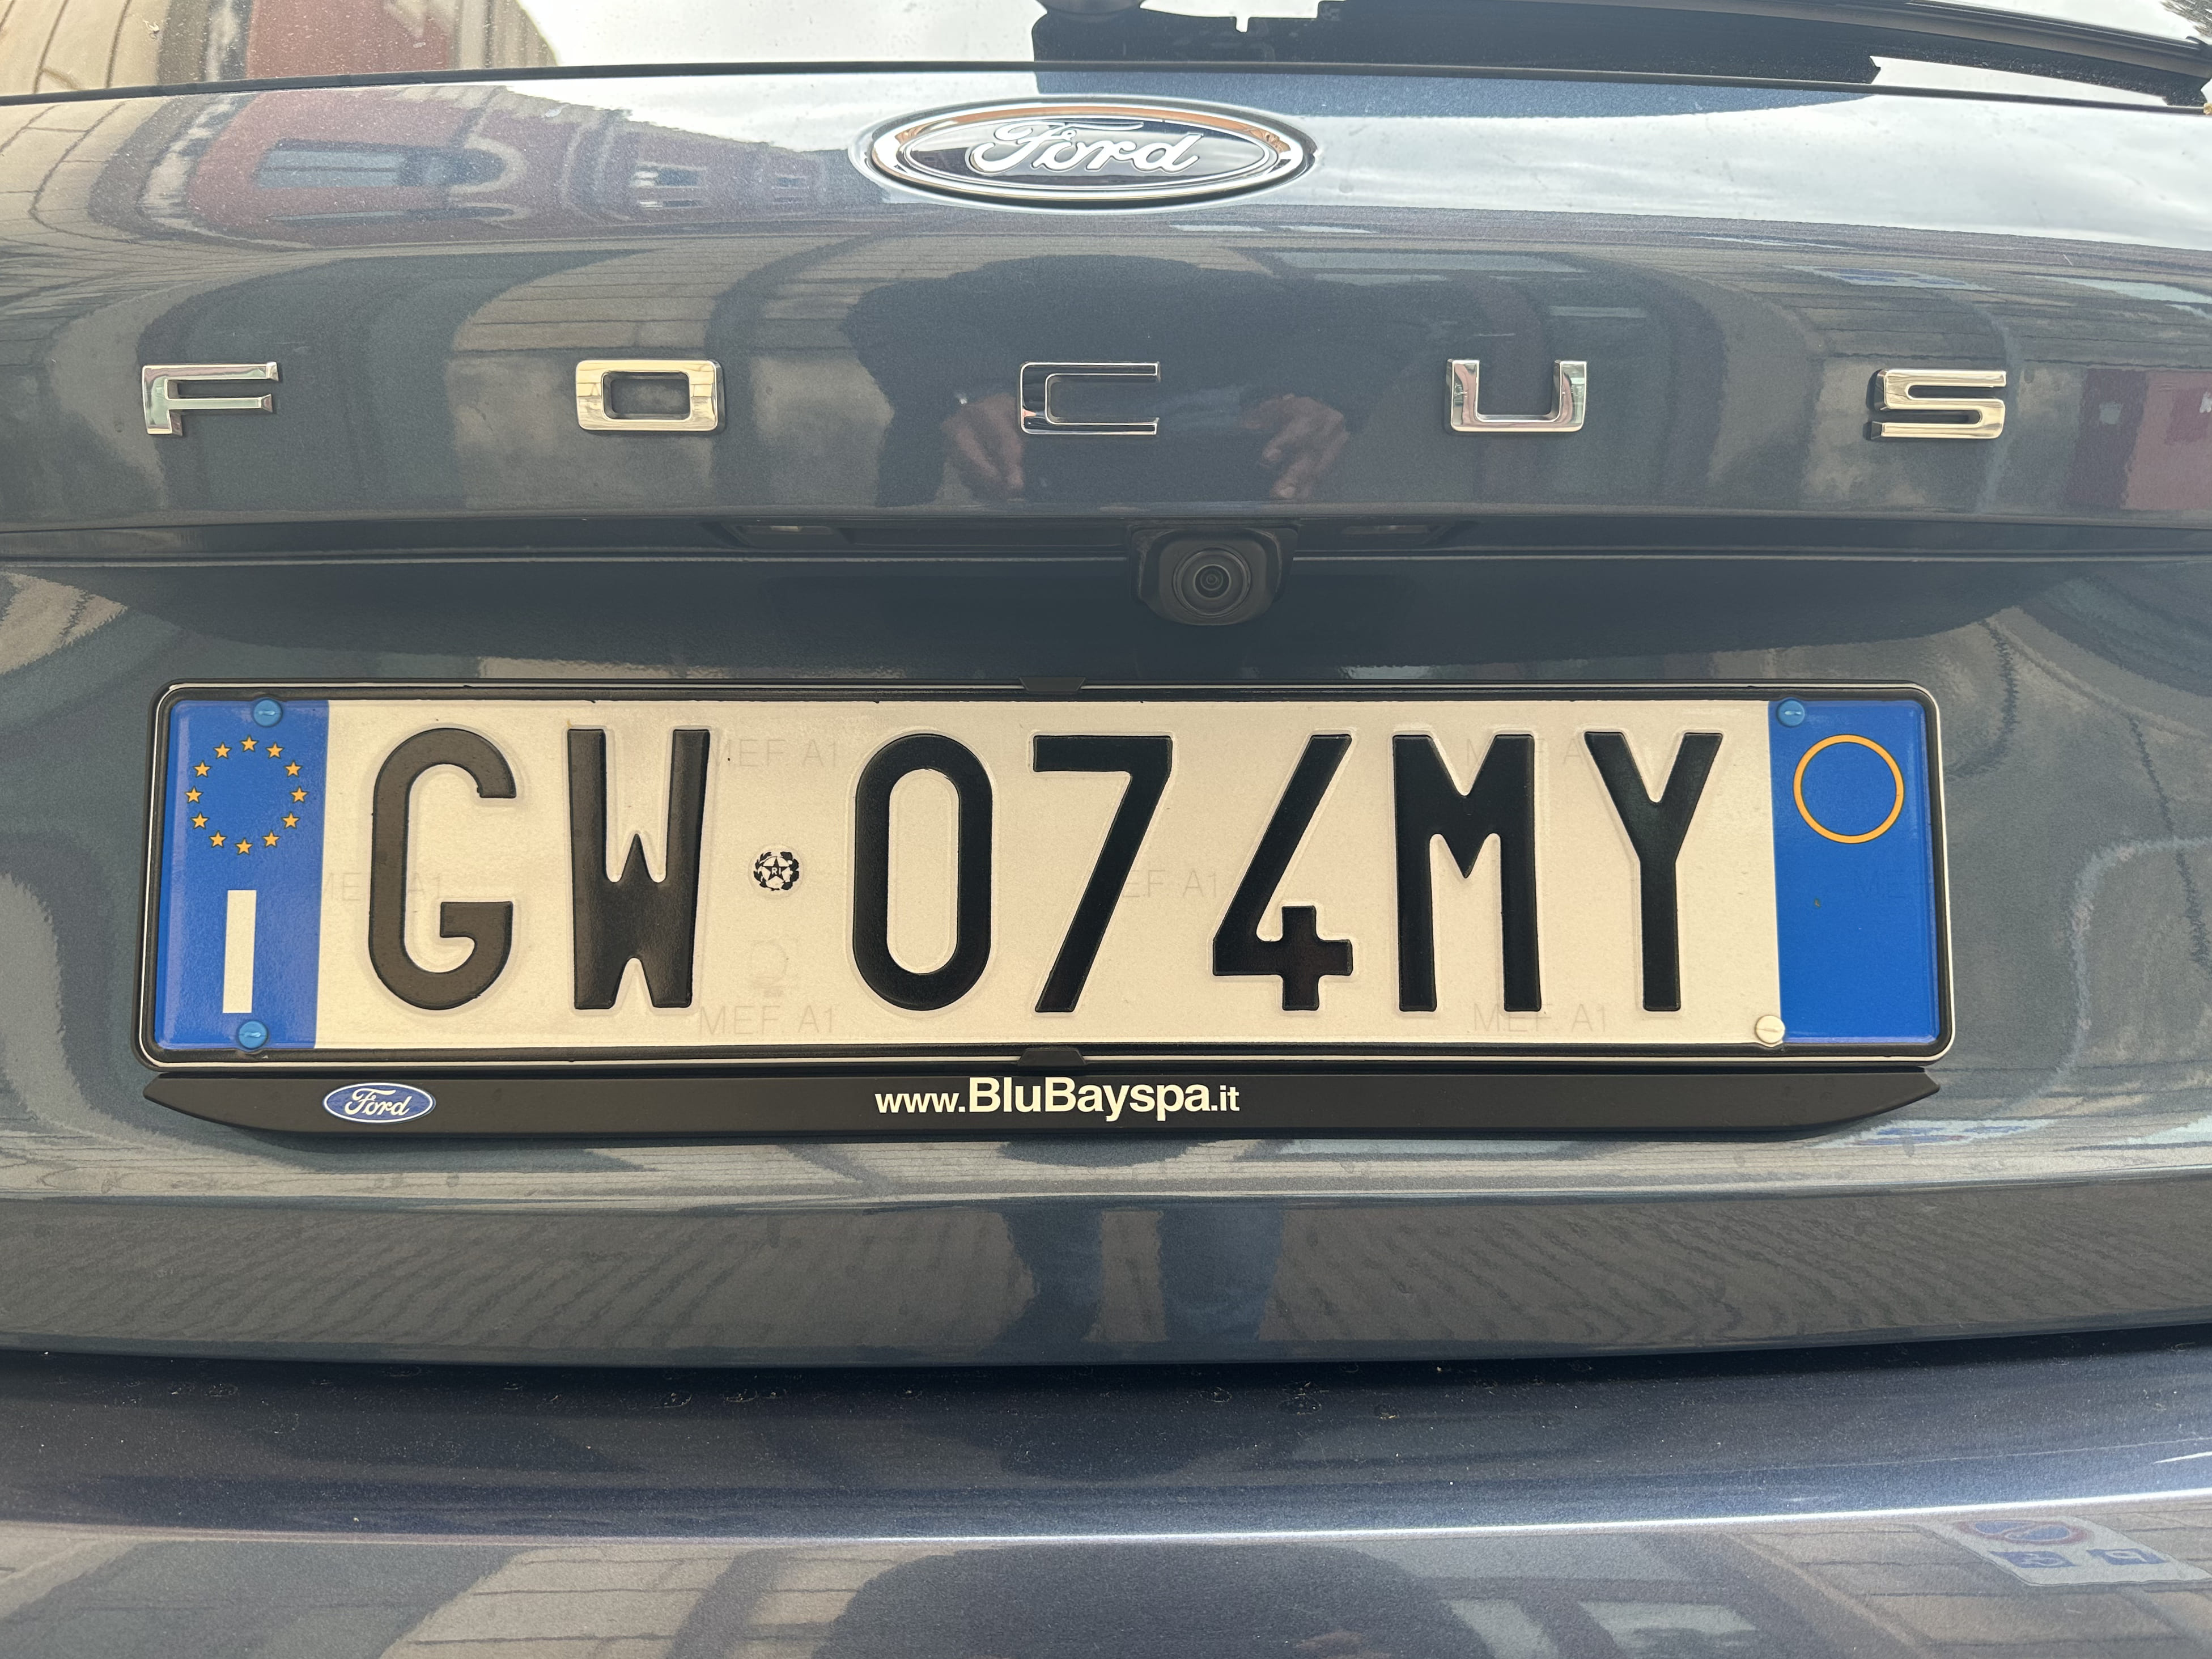license-plate: (138, 676, 1958, 1066)
